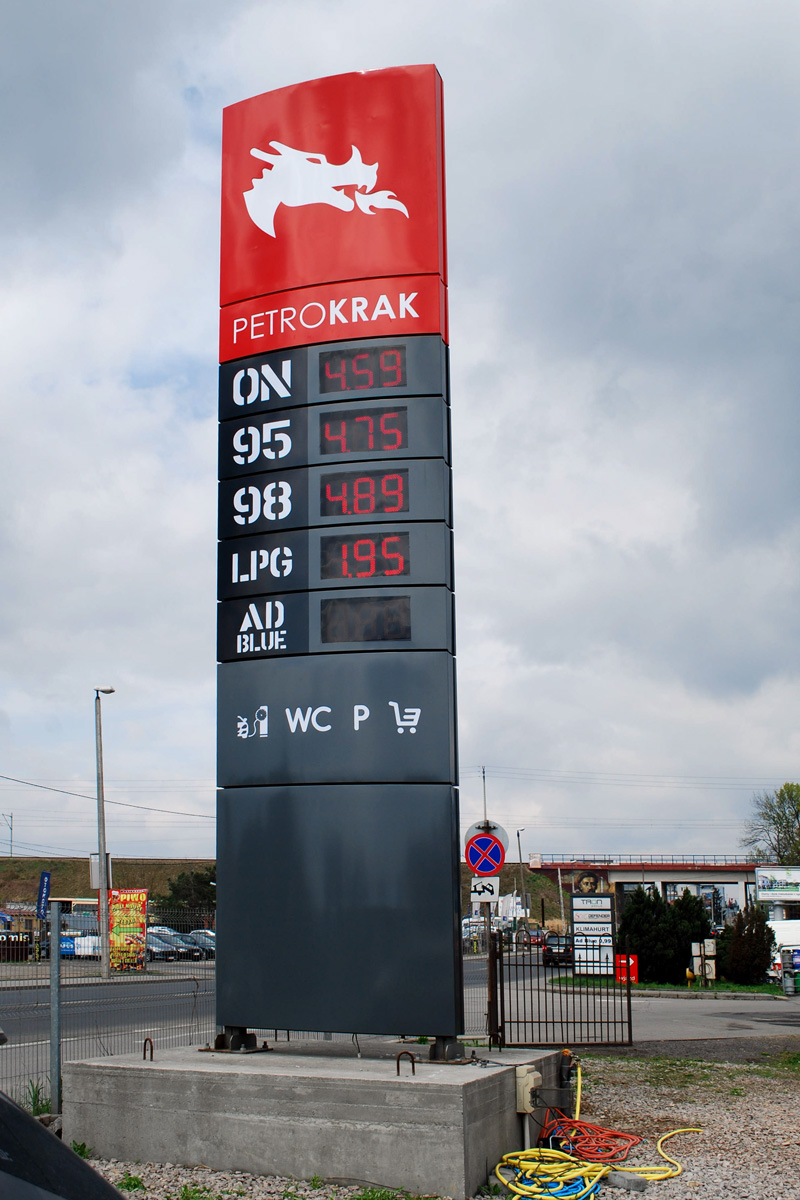LPG: (226, 542, 305, 587)
ON: (225, 353, 306, 412)
PB95: (218, 419, 308, 468)
PB98: (220, 469, 313, 528)
